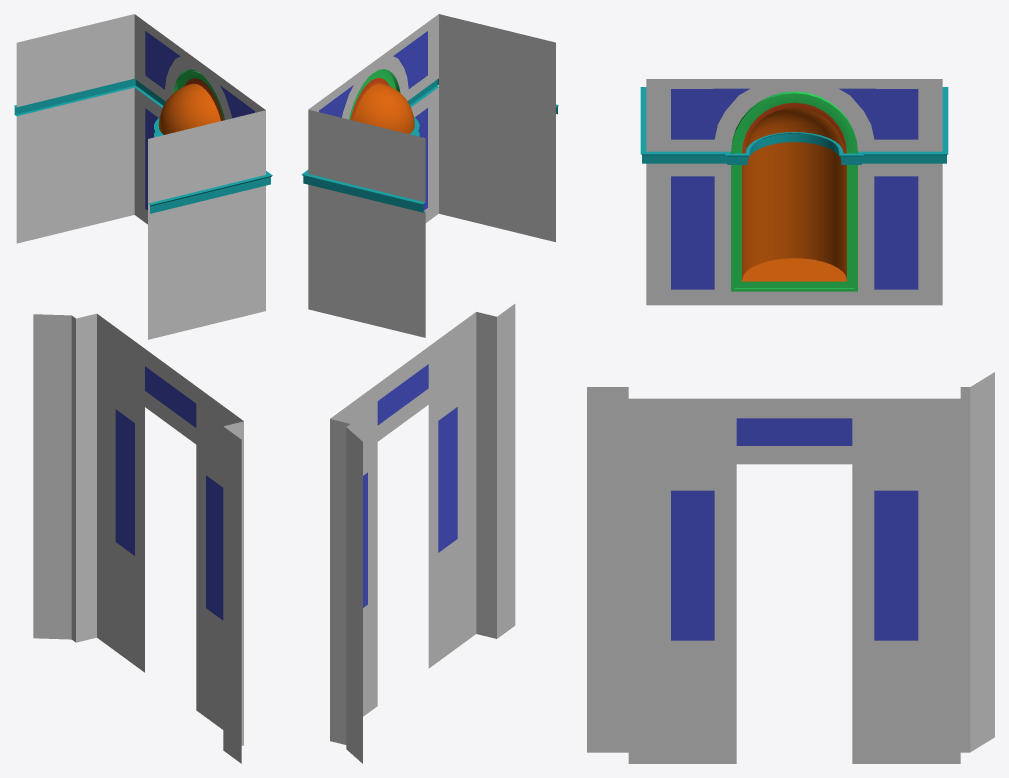
File: Mur_Scene_Central_Niche.fbx
The picture shows the model from 3 angles, left to right: view 1: azimuth 30°, elevation 25°; view 2: azimuth 150°, elevation 25°; view 3: azimuth 270°, elevation 25°; orthographic projection. The views are drawn at different scales.
Parts seen in each view (by area): view 1: Niche_LO; view 2: Niche_LO; view 3: Niche_LO.
Boxes of the visible parts, x1=… form: Niche_LO: x1=14, y1=14, x2=272, y2=763; Niche_LO: x1=301, y1=14, x2=558, y2=763; Niche_LO: x1=587, y1=79, x2=994, y2=763.
Size of the model in its own units: 492 by 2337 by 1231.
